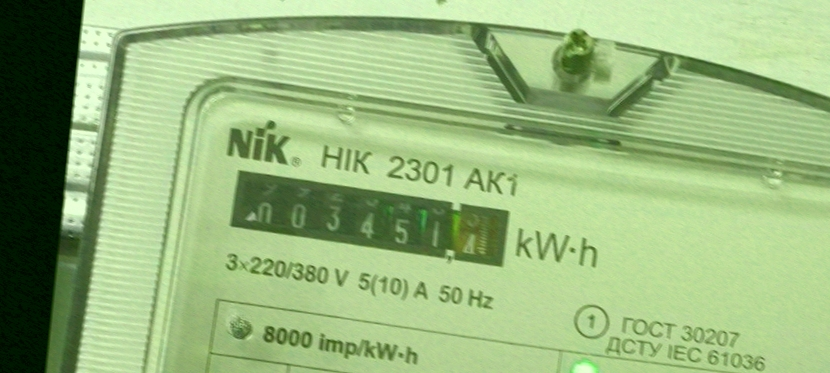0: (252, 195, 275, 224), (287, 199, 309, 229)
1: (426, 215, 445, 248)
3: (322, 200, 344, 232)
4: (355, 207, 378, 241), (457, 228, 480, 258)
5: (391, 213, 411, 245)
screen: (221, 163, 517, 274)
